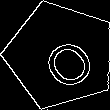O_NW: (27, 22, 94, 89)
